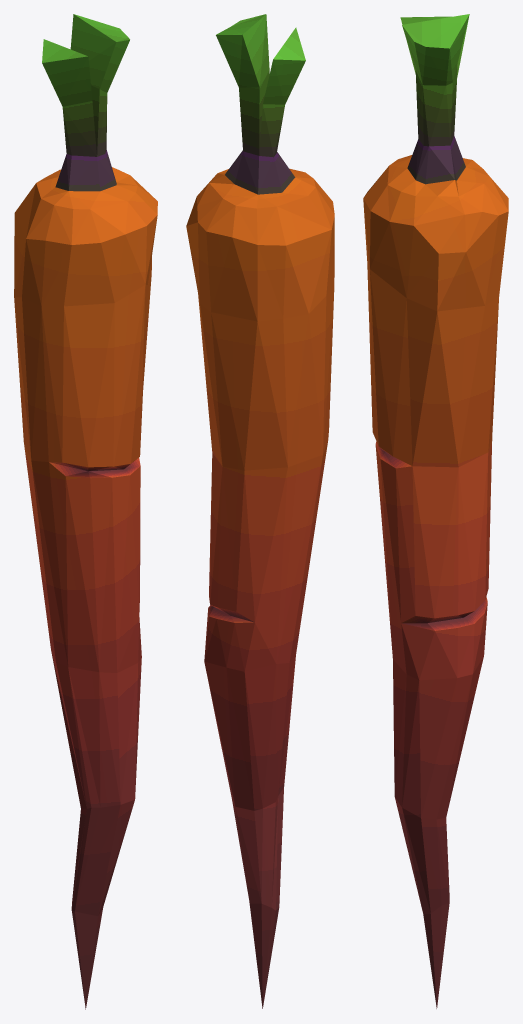
File: carrot.obj
3 views of the same model, side by side, from view 1: azimuth 30°, elevation 25°; view 2: azimuth 150°, elevation 25°; view 3: azimuth 270°, elevation 25° (orthographic).
Parts seen in each view (by area): view 1: cone1; view 2: cone1; view 3: cone1.
Part boxes in pixels (<box>): cone1: <box>14,14,157,1009</box>; cone1: <box>186,14,334,1008</box>; cone1: <box>363,14,508,1008</box>.
Bounding box in the file's own units: 0.376 × 2.68 × 0.3542.
1 material, 1 textured.
